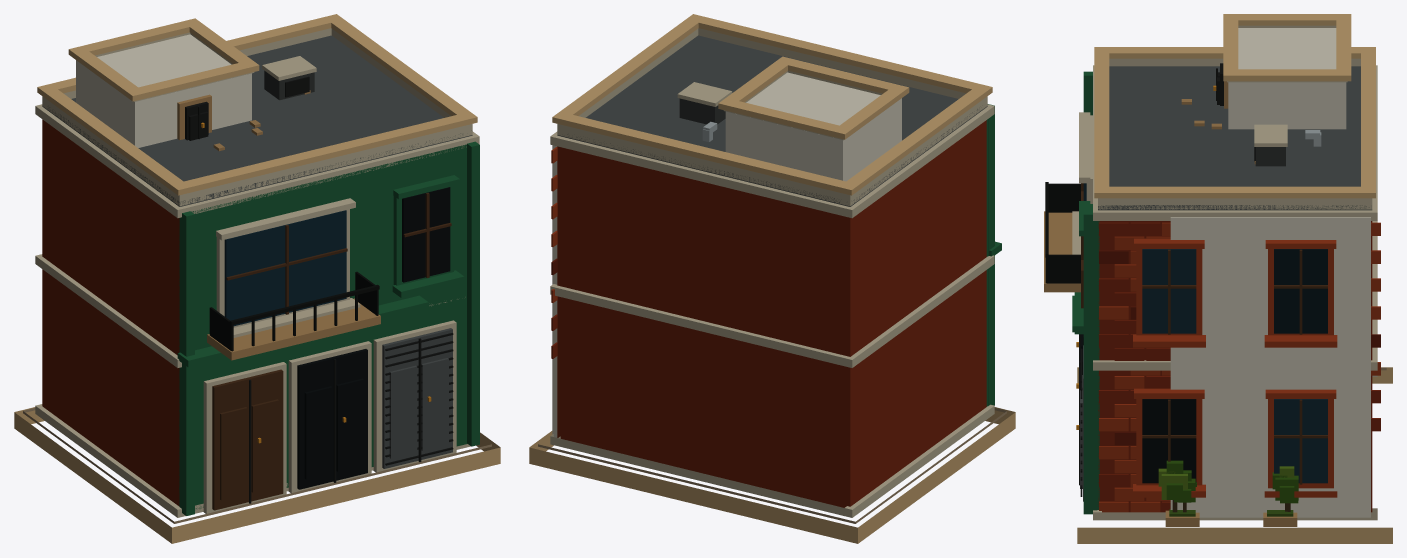
The model's file is SM_StreetFrontage_025.fbx.
3 views of the same model, side by side, from view 1: azimuth 30°, elevation 25°; view 2: azimuth 150°, elevation 25°; view 3: azimuth 270°, elevation 25° (orthographic).
Visible parts, largest first — view 1: SM_StreetFrontage_025; view 2: SM_StreetFrontage_025; view 3: SM_StreetFrontage_025.
Boxes of the visible parts, x1,y1,x2,y2 form: SM_StreetFrontage_025: [14, 14, 500, 543]; SM_StreetFrontage_025: [529, 14, 1015, 543]; SM_StreetFrontage_025: [1044, 14, 1392, 543].
Bounding box in the file's own units: 8 × 7.23 × 8.83.
